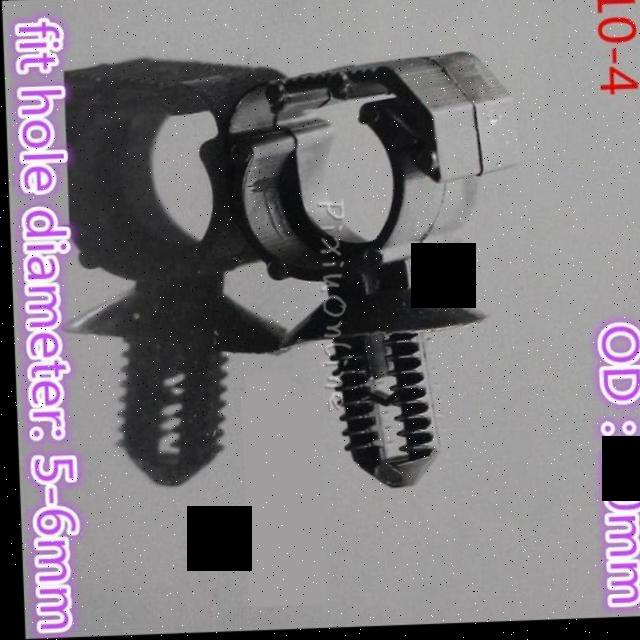clip: (225, 57, 514, 409), (338, 383, 433, 490)
